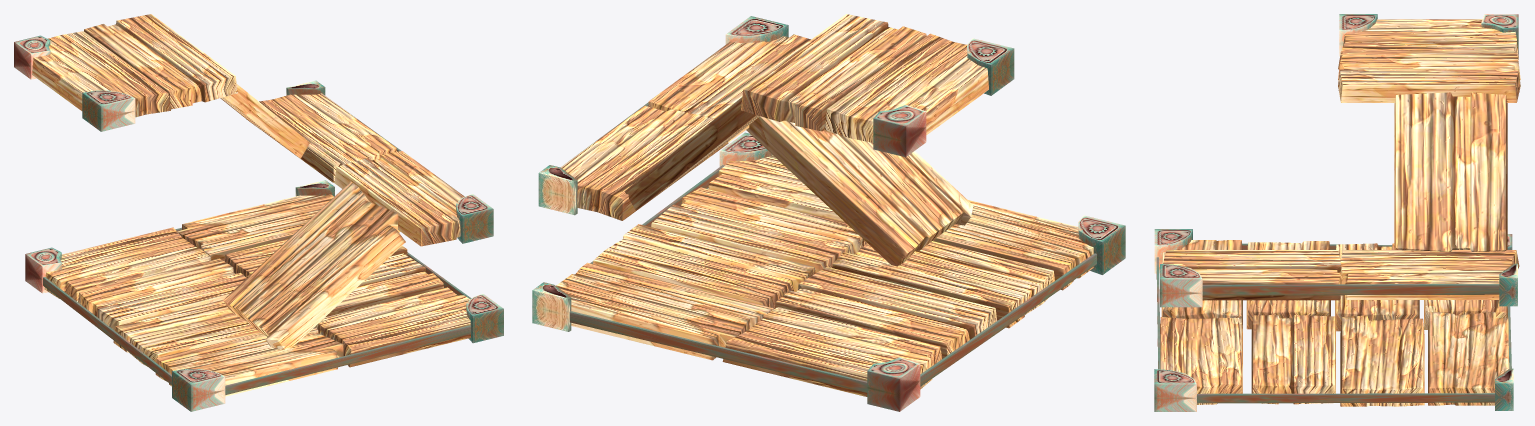
File: SteampunkPlatformWithRamps.glb
3 views of the same model, side by side, from view 1: azimuth 30°, elevation 25°; view 2: azimuth 150°, elevation 25°; view 3: azimuth 270°, elevation 25° (orthographic). The views are drawn at different scales.
Parts seen in each view (by area): view 1: PlatformsRamps; view 2: PlatformsRamps; view 3: PlatformsRamps.
Part boxes in pixels (x1,y1,x2,y2): PlatformsRamps: (14, 14, 503, 411); PlatformsRamps: (532, 14, 1125, 411); PlatformsRamps: (1154, 14, 1520, 411).
Size of what is drawn, in the model's own units: 4.39 by 3.2 by 4.37.
Materials: 1 (1 with a texture image).
